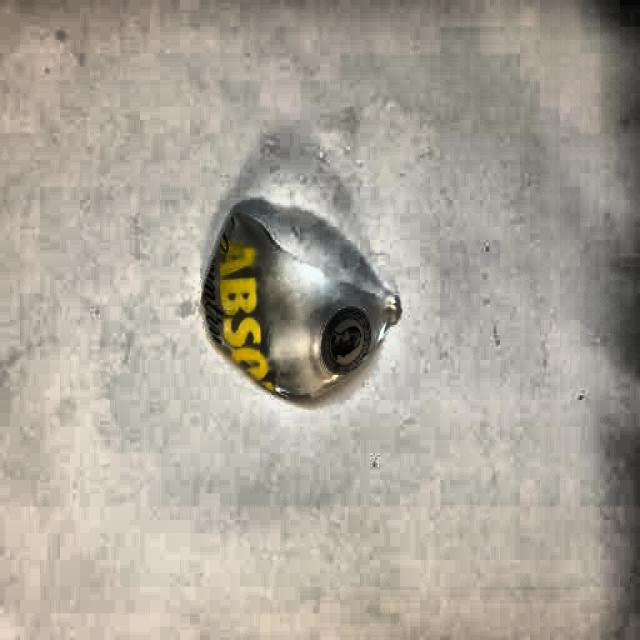glass: (199, 198, 405, 404)
